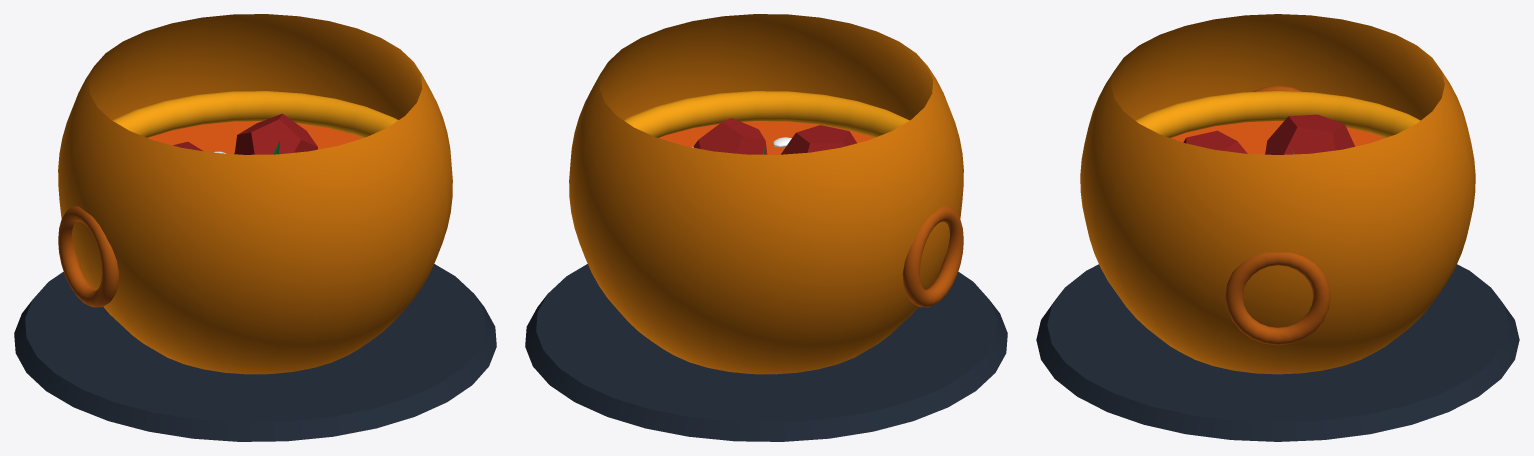
Rendered from butter-chicken.glb.
The picture shows the model from 3 angles, left to right: view 1: azimuth 30°, elevation 25°; view 2: azimuth 150°, elevation 25°; view 3: azimuth 270°, elevation 25°; orthographic projection.
Bounding box in the file's own units: 0.88 × 0.5529 × 0.88.
